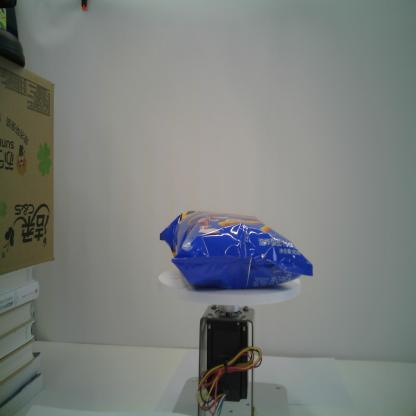Puffed Food: (160, 210, 314, 290)
